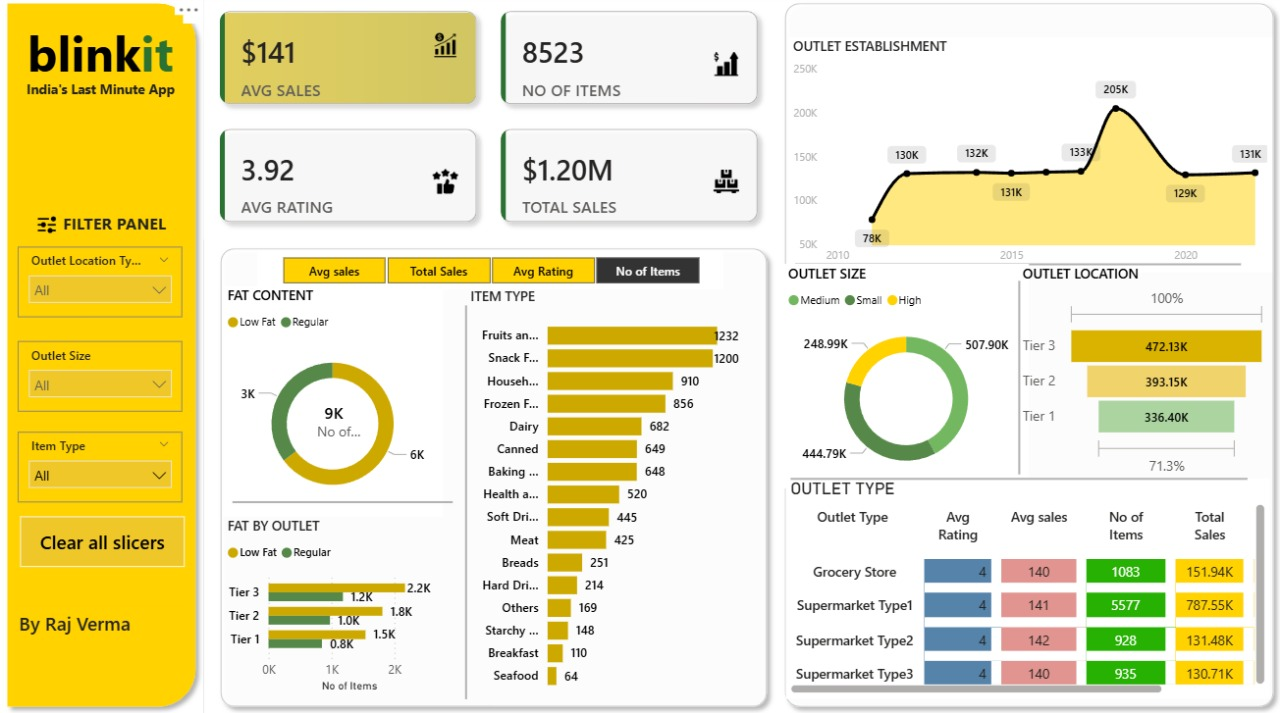

The dashboard page shown, as its layout file describes it:
{"tool":"powerbi","page":{"name":"Page 1","canvas":[1280,720],"ordinal":0},"visuals":[{"type":"shape","box":[0,0,206,720],"z":0},{"type":"textbox","box":[20,21.2,165,75],"z":1000},{"type":"textbox","box":[15,81.2,175,28.8],"z":2000},{"type":"cardVisual","fields":{"Data":["BlinkIT Grocery Data.Avg sales","BlinkIT Grocery Data.No of Items","BlinkIT Grocery Data.Avg Rating","BlinkIT Grocery Data.Total Sales"]},"box":[204.5,0,570.5,245.2],"z":3000},{"type":"shape","box":[212.6,245.2,562.4,475.2],"z":4000},{"type":"donutChart","title":"FAT CONTENT","fields":{"Y":["BlinkIT Grocery Data.No of Items"],"Category":["BlinkIT Grocery Data.Item Fat Content"]},"box":[224.3,290.5,219.6,230.1],"z":5000},{"type":"slicer","fields":{"Values":["matrics.matrics"]},"box":[258,255.6,464.8,39.5],"z":6000},{"type":"cardVisual","fields":{"Data":["BlinkIT Grocery Data.No of Items"]},"box":[283.5,389.3,102.3,63.9],"z":7000},{"type":"clusteredBarChart","title":"FAT BY OUTLET","fields":{"Y":["BlinkIT Grocery Data.No of Items"],"Category":["BlinkIT Grocery Data.Outlet Location Type"],"Series":["BlinkIT Grocery Data.Item Fat Content"]},"box":[224.3,520.6,219.6,180.1],"z":8000},{"type":"shape","box":[233.6,492.7,219.6,27.9],"z":9000},{"type":"shape","box":[453.2,310.2,25.6,392.7],"z":10000},{"type":"clusteredBarChart","title":"ITEM TYPE","fields":{"Y":["BlinkIT Grocery Data.No of Items"],"Category":["BlinkIT Grocery Data.Item Type"]},"box":[465.9,291.7,277.7,411.3],"z":11000},{"type":"shape","box":[775,0,505,720],"z":12000},{"type":"lineChart","title":"OUTLET ESTABLISHMENT","fields":{"Category":["BlinkIT Grocery Data.Outlet Establishment Year"],"Y":["BlinkIT Grocery Data.Total Sales"]},"box":[787.5,42.5,482.5,235],"z":13000},{"type":"shape","box":[794.8,255.6,443.9,27.9],"z":14000},{"type":"donutChart","title":"OUTLET SIZE","fields":{"Y":["BlinkIT Grocery Data.Total Sales"],"Category":["BlinkIT Grocery Data.Outlet Size"]},"box":[783.2,269.6,245.2,224.3],"z":15000},{"type":"funnel","title":"OUTLET LOCATION","fields":{"Category":["BlinkIT Grocery Data.Outlet Location Type"],"Y":["BlinkIT Grocery Data.Total Sales"]},"box":[1016.7,269.6,253.3,217.3],"z":16000},{"type":"pivotTable","title":"OUTLET TYPE","fields":{"Values":["BlinkIT Grocery Data.Avg Rating","BlinkIT Grocery Data.Avg sales","BlinkIT Grocery Data.No of Items","BlinkIT Grocery Data.Total Sales","Sum(BlinkIT Grocery Data.Item Visibility)"],"Rows":["BlinkIT Grocery Data.Outlet Type"]},"box":[785.5,483.4,482.2,219.6],"z":17000},{"type":"shape","box":[790.1,469.4,455.5,27.9],"z":18000},{"type":"shape","box":[1001.6,285.8,32.5,192.9],"z":19000},{"type":"slicer","fields":{"Values":["BlinkIT Grocery Data.Outlet Location Type"]},"box":[20,251.4,164.3,70],"z":20000},{"type":"slicer","fields":{"Values":["BlinkIT Grocery Data.Outlet Size"]},"box":[20,345.7,164.3,70],"z":21000},{"type":"slicer","fields":{"Values":["BlinkIT Grocery Data.Item Type"]},"box":[20,437.1,164.3,70],"z":22000},{"type":"textbox","box":[60,212.9,124.3,37.1],"z":23000},{"type":"image","box":[30,215.7,35.7,30],"z":24000},{"type":"actionButton","box":[21.4,521.4,164.3,50],"z":25000},{"type":"textbox","box":[15.7,610,168.6,48.6],"z":26000}]}

Visuals, with their boxes in screenshot pixels (x1, y1, x2, y2), scaled from the page's 1280x720 canvas onto the 1280x713 screenshot:
shape: [0,0,206,712]
textbox: [20,21,185,95]
textbox: [15,80,190,109]
cardVisual - BlinkIT Grocery Data.Avg sales x BlinkIT Grocery Data.No of Items: [204,0,775,243]
shape: [213,243,775,712]
"FAT CONTENT" donutChart: [224,288,444,516]
slicer - matrics.matrics: [258,253,723,292]
cardVisual - BlinkIT Grocery Data.No of Items: [284,386,386,449]
"FAT BY OUTLET" clusteredBarChart: [224,516,444,694]
shape: [234,488,453,516]
shape: [453,307,479,696]
"ITEM TYPE" clusteredBarChart: [466,289,744,696]
shape: [775,0,1279,712]
"OUTLET ESTABLISHMENT" lineChart: [788,42,1270,275]
shape: [795,253,1239,281]
"OUTLET SIZE" donutChart: [783,267,1028,489]
"OUTLET LOCATION" funnel: [1017,267,1270,482]
"OUTLET TYPE" pivotTable: [786,479,1268,696]
shape: [790,465,1246,492]
shape: [1002,283,1034,474]
slicer - BlinkIT Grocery Data.Outlet Location Type: [20,249,184,318]
slicer - BlinkIT Grocery Data.Outlet Size: [20,342,184,412]
slicer - BlinkIT Grocery Data.Item Type: [20,433,184,502]
textbox: [60,211,184,248]
image: [30,214,66,243]
actionButton: [21,516,186,566]
textbox: [16,604,184,652]
